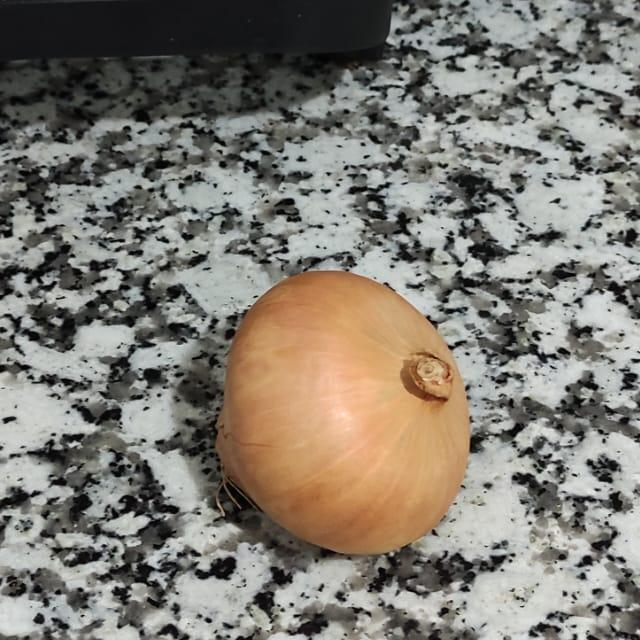onion: (173, 249, 520, 579)
